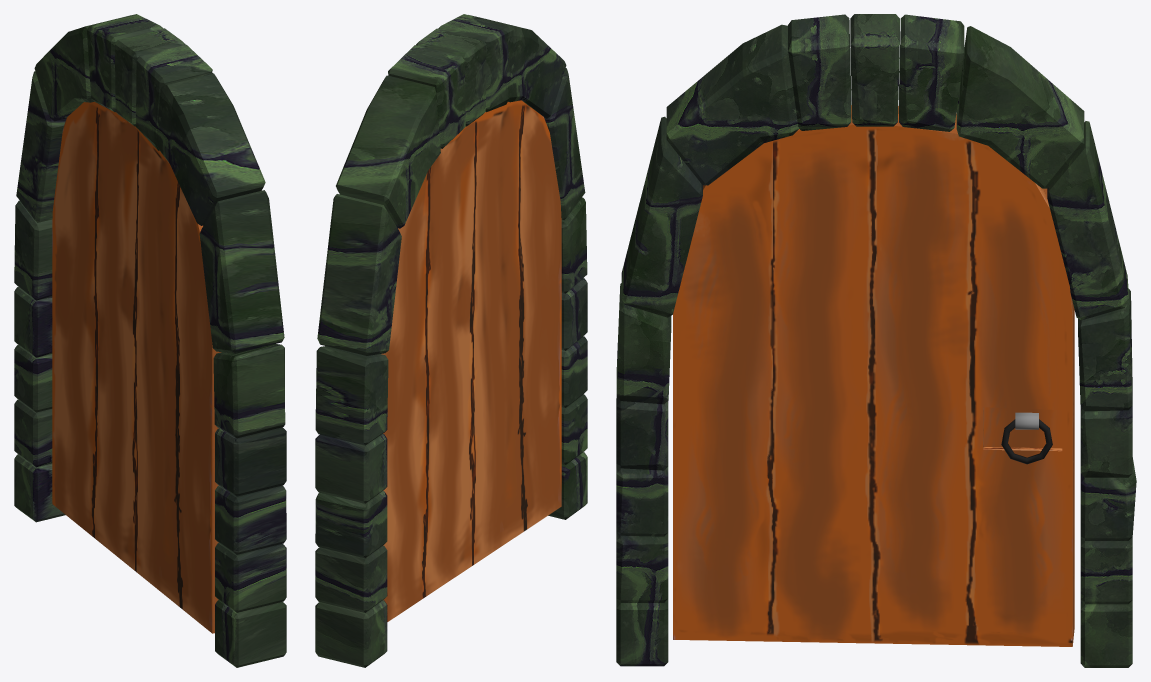
File: dungeon_door (1).glb
The picture shows the model from 3 angles, left to right: view 1: azimuth 30°, elevation 25°; view 2: azimuth 150°, elevation 25°; view 3: azimuth 270°, elevation 25°; orthographic projection. The views are drawn at different scales.
Parts seen in each view (by area): view 1: StoneArch, Door; view 2: Door, StoneArch; view 3: Door, StoneArch, DoorHandle.
Part boxes in pixels (x1,y1,x2,y2): StoneArch: (14, 14, 286, 667); Door: (52, 101, 221, 633); Door: (381, 100, 561, 621); StoneArch: (315, 14, 587, 667); Door: (673, 105, 1074, 646); StoneArch: (616, 14, 1136, 667); DoorHandle: (1001, 412, 1052, 464).
Size of the model in its own units: 35.66 by 330 by 248.
Materials: 4 (2 with a texture image).
